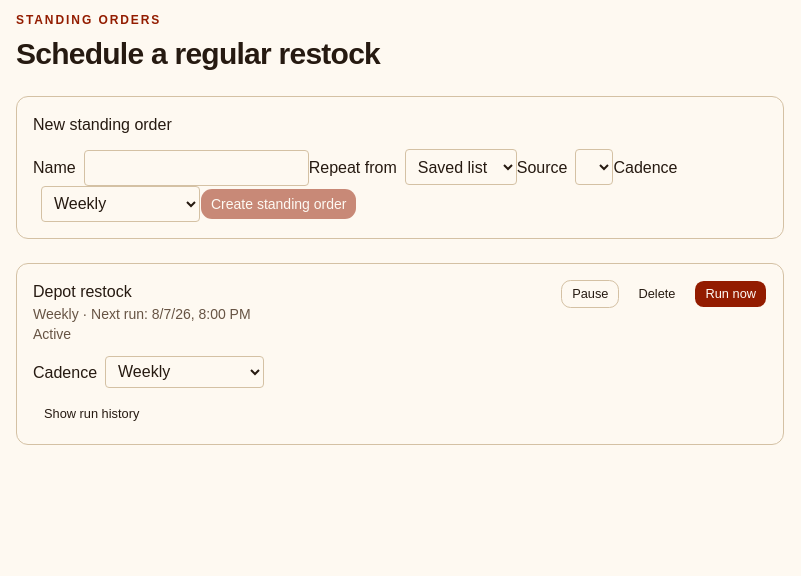
Test: StandingOrdersPage › does not let a stale reload overwrite a completed update
Click the button "Run now".
click(731, 294)  # box [694,280,767,308]
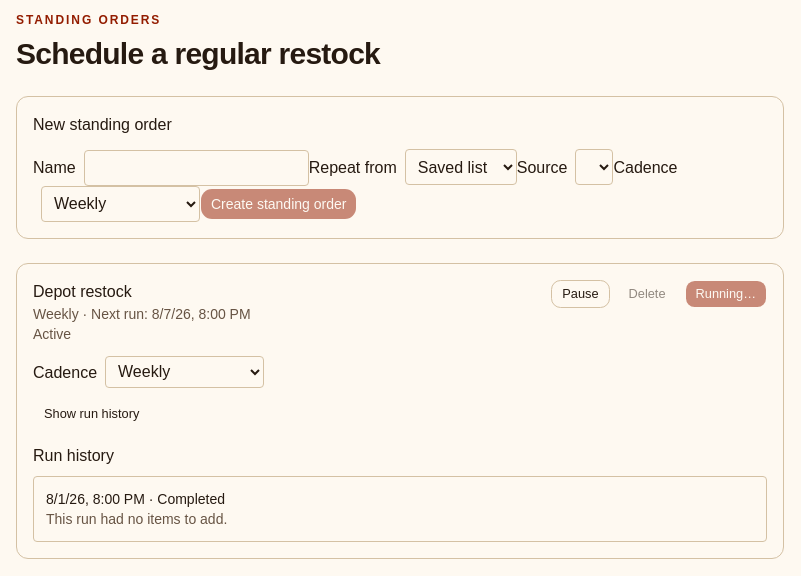
Click the button "Pause".
click(580, 294)  # box [551,280,610,308]
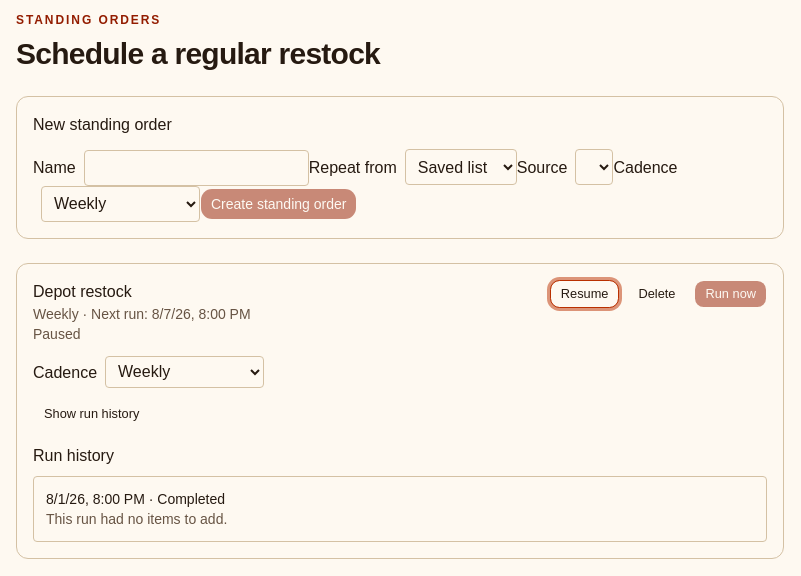
Result: the text "Paused" is shown at [33,326,80,342]
